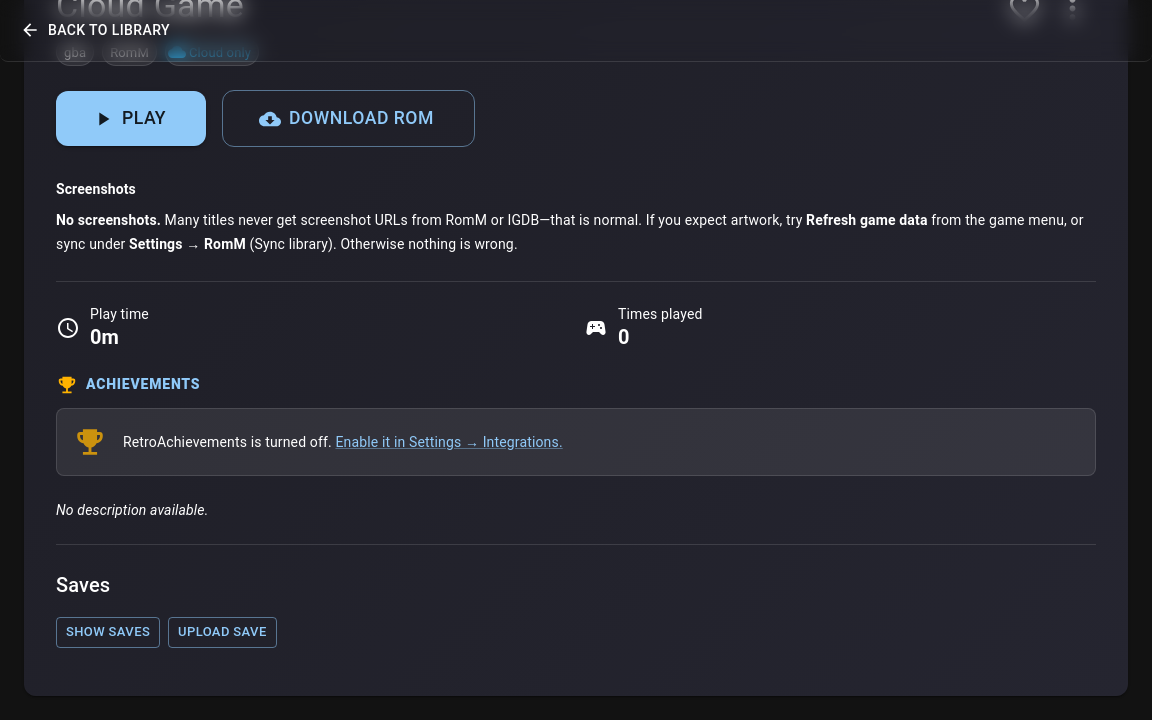
Test: GameDetails manual save uploads › reports a rejected upload and retries the selected save without reopening the dialog
(page scrolled)
Click the button "Upload Save": [222, 633] box [168,617,277,648]
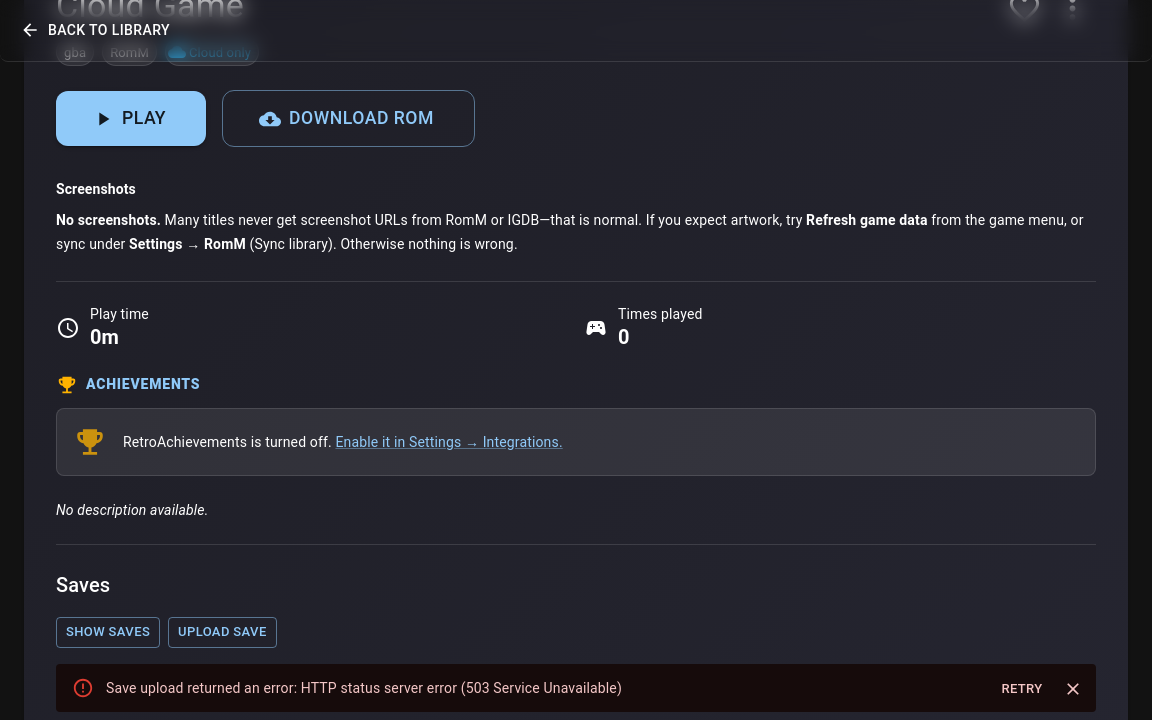
Check: the text "Save uploaded!" is not shown
Check: the text "503 Service Unavailable" is shown, box [106,680,622,696]
Click the button "Retry": [1022, 689] box [990,674,1054,705]
(page scrolled)
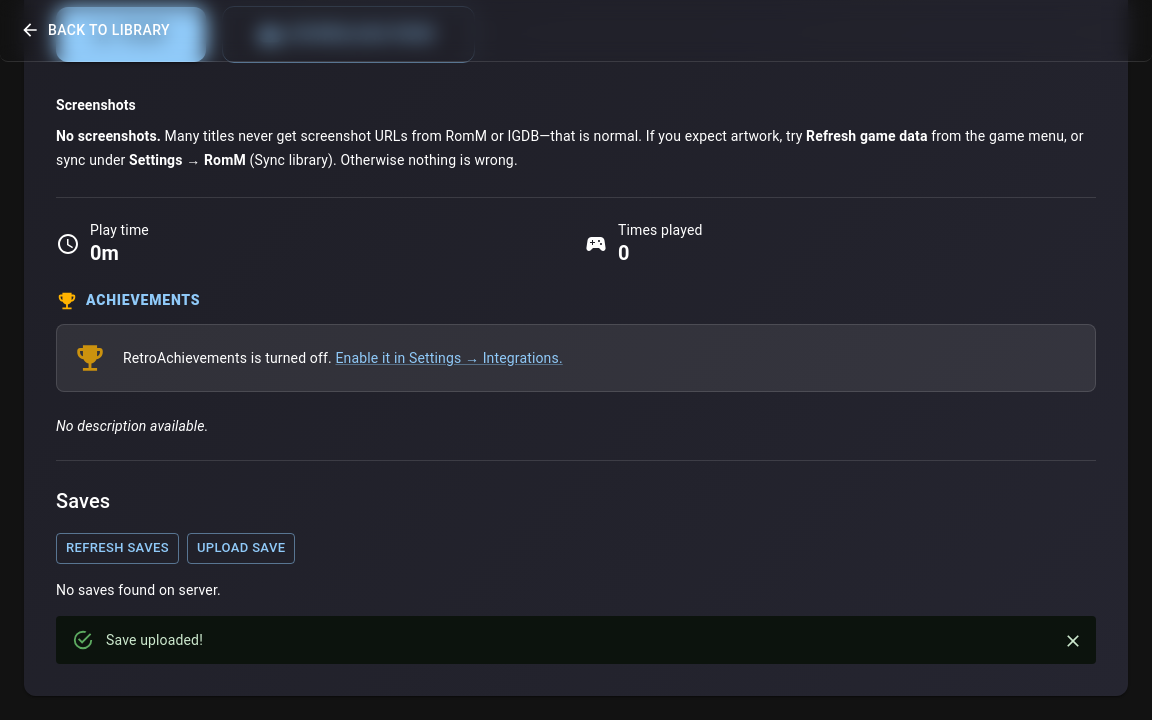
Check: the text "Save uploaded!" is shown, box [106,632,203,648]
